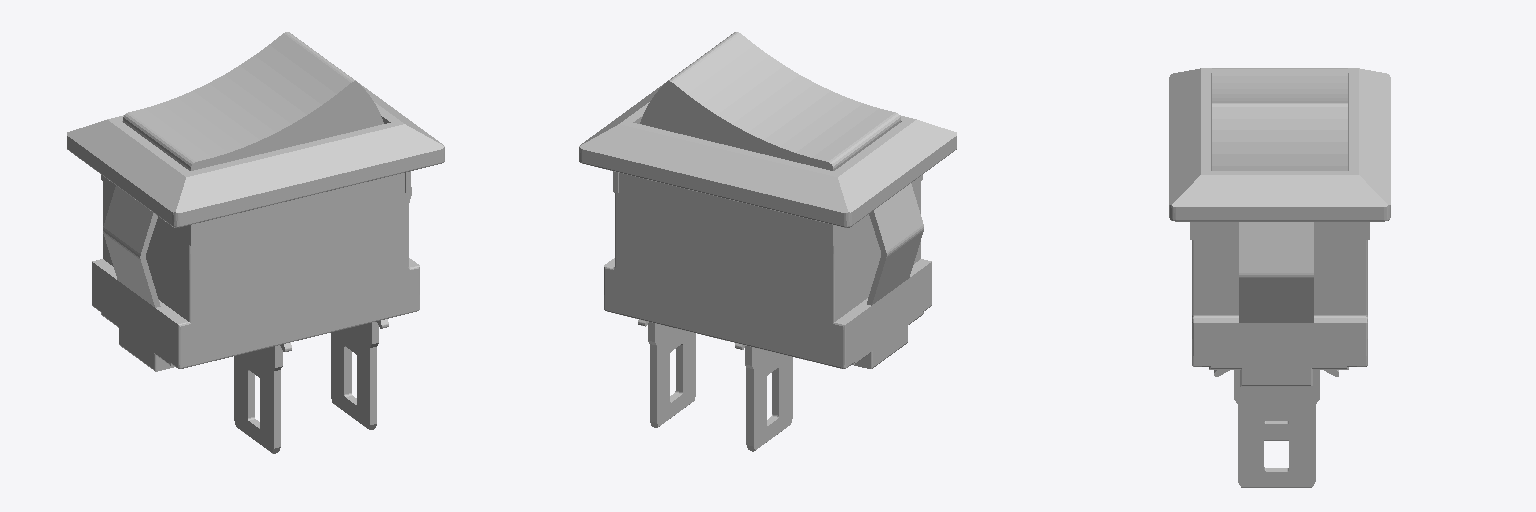
Rendered from Switch 15x11mm.obj.
3 renders of one model, left to right at view 1: azimuth 30°, elevation 25°; view 2: azimuth 150°, elevation 25°; view 3: azimuth 270°, elevation 25°, orthographic.
Parts seen in each view (by area): view 1: Solid2, Solid3, Solid5, Solid4; view 2: Solid2, Solid3, Solid5, Solid4; view 3: Solid2, Solid3, Solid4.
Part boxes in pixels (x1,y1,x2,y2): Solid2: (67, 69, 444, 371); Solid3: (123, 32, 383, 170); Solid5: (234, 342, 291, 453); Solid4: (331, 319, 388, 429); Solid2: (579, 69, 956, 368); Solid3: (640, 32, 900, 170); Solid5: (735, 343, 792, 451); Solid4: (638, 320, 695, 427); Solid2: (1169, 68, 1390, 386); Solid3: (1212, 68, 1347, 170); Solid4: (1214, 370, 1338, 487).
Size of the model in its own units: 15.1 by 19.44 by 10.6.